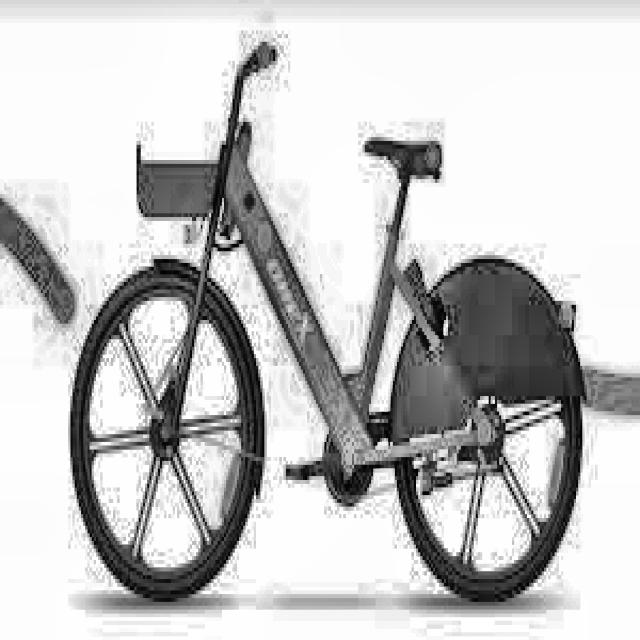bicycle: (65, 43, 584, 606)
